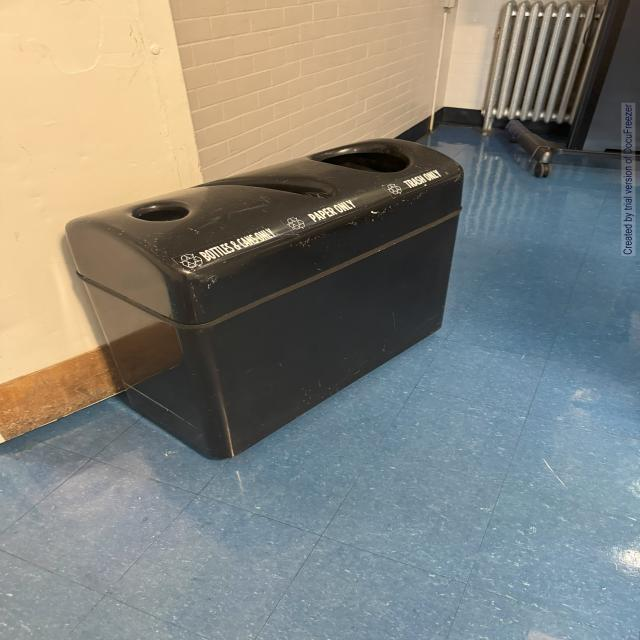Trash bin: (48, 136, 494, 428)
